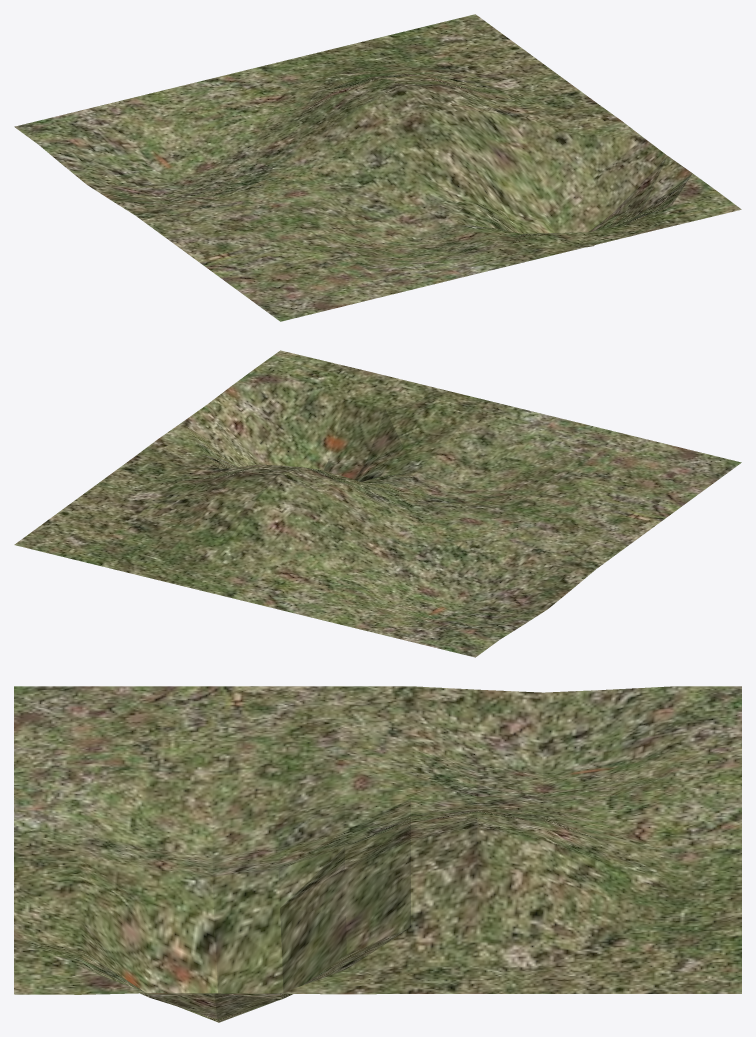
File: terrain.obj
3 views of the same model, one above another, from view 1: azimuth 30°, elevation 25°; view 2: azimuth 150°, elevation 25°; view 3: azimuth 270°, elevation 25° (orthographic). The views are drawn at different scales.
Parts seen in each view (by area): view 1: Plane; view 2: Plane; view 3: Plane.
Part boxes in pixels (x1=…): Plane: x1=14, y1=14, x2=741, y2=321; Plane: x1=14, y1=350, x2=741, y2=657; Plane: x1=14, y1=686, x2=741, y2=1022.
Bounding box in the file's own units: 2 × 0.4611 × 2.
Materials: 1 (1 with a texture image).
